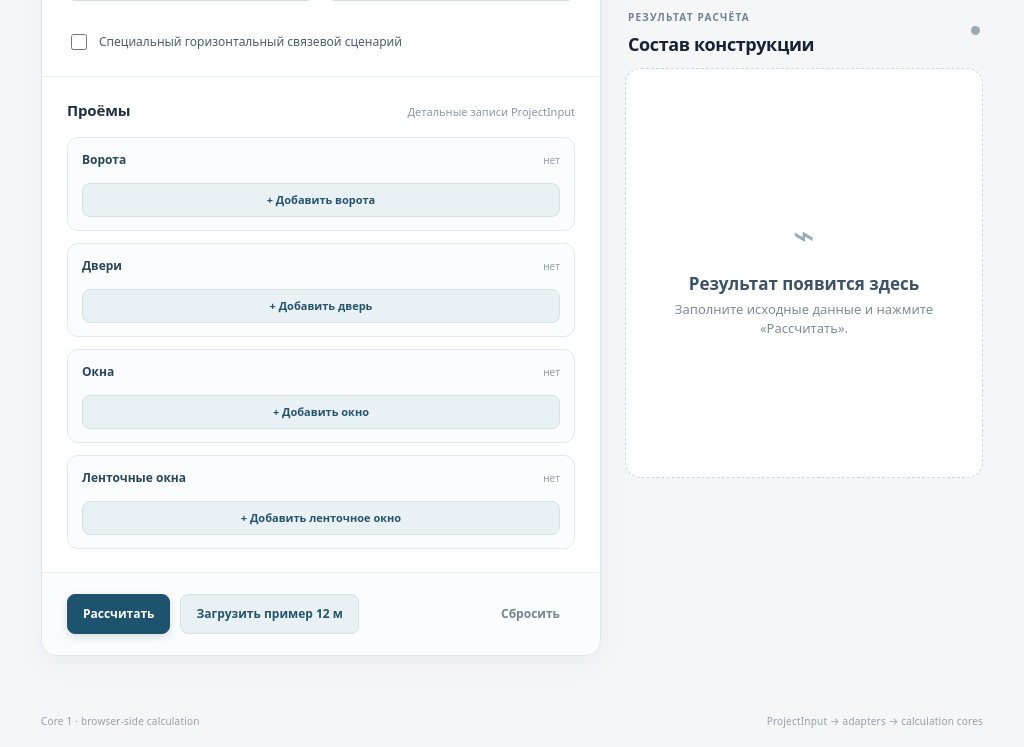
Test case: Sprint M calculator UI › surfaces the bounded 24m structural parity status without changing the result
This screenshot has width=1024, height=747.
(page scrolled)
Click the button "Рассчитать": (119, 614) [67,594,170,634]
(page scrolled)
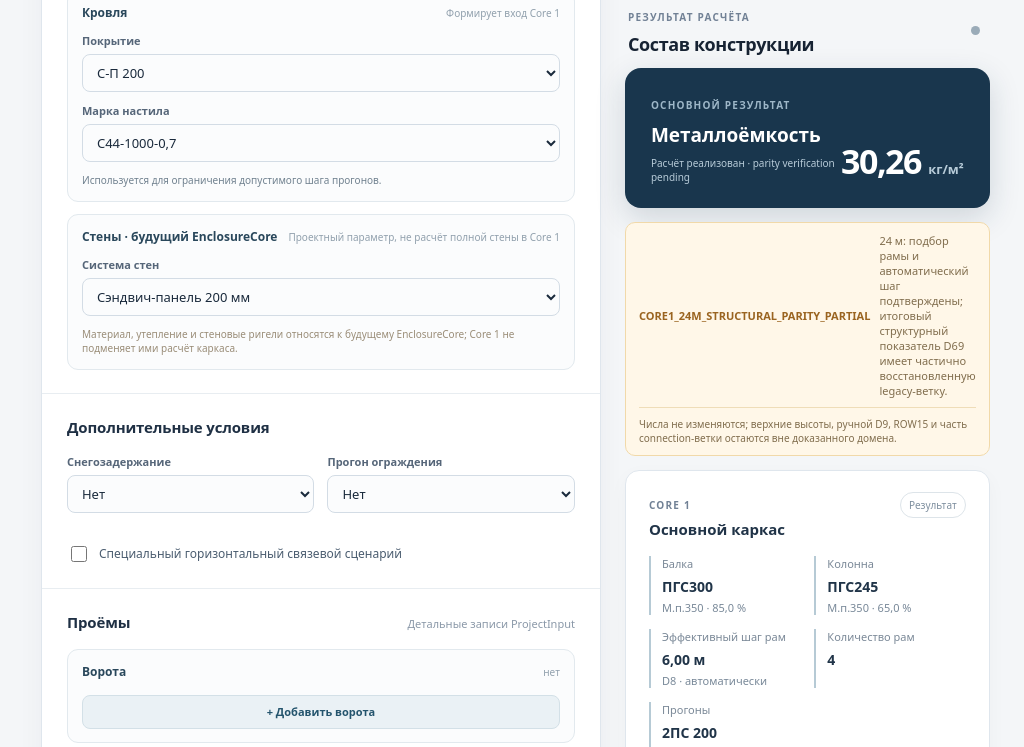
Expected: the text "CORE1_24M_STRUCTURAL_PARITY_PARTIAL" is shown, [639,308,870,323]
Expected: the text "итоговый структурный показатель D69 имеет частично восстановленную legacy-ветку" is shown, [879,233,976,398]
